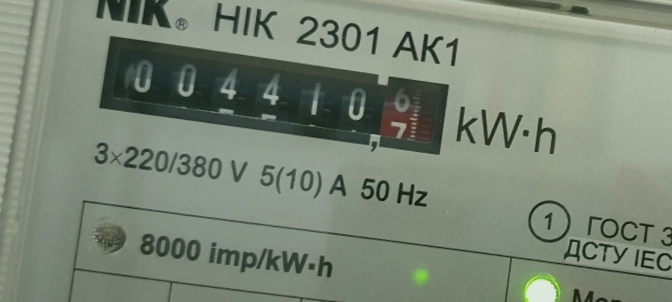0: (129, 55, 156, 95), (344, 84, 369, 123), (175, 59, 197, 99)
1: (305, 79, 324, 117)
4: (258, 68, 285, 109), (216, 61, 242, 102)
6: (393, 86, 413, 114)
7: (387, 118, 408, 140)
screen: (86, 22, 463, 168)
